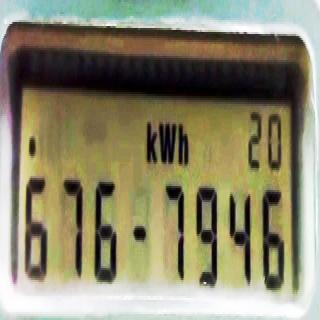-: (131, 218, 147, 252), (28, 130, 36, 162)
0: (266, 102, 283, 176)
2: (246, 106, 262, 178)
4: (228, 185, 253, 291)
6: (20, 171, 50, 289), (92, 166, 119, 295), (259, 178, 285, 299)
7: (163, 172, 187, 291), (62, 167, 85, 286)
9: (193, 178, 219, 294)
